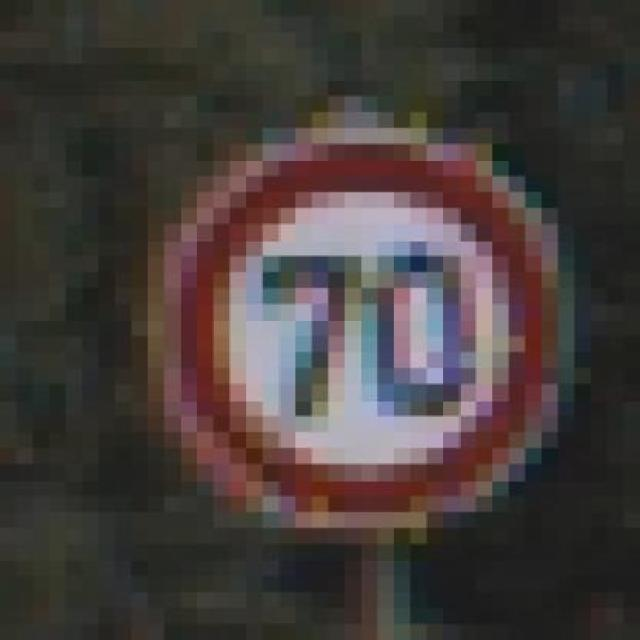forb_speed_over_70: (176, 140, 553, 518)
